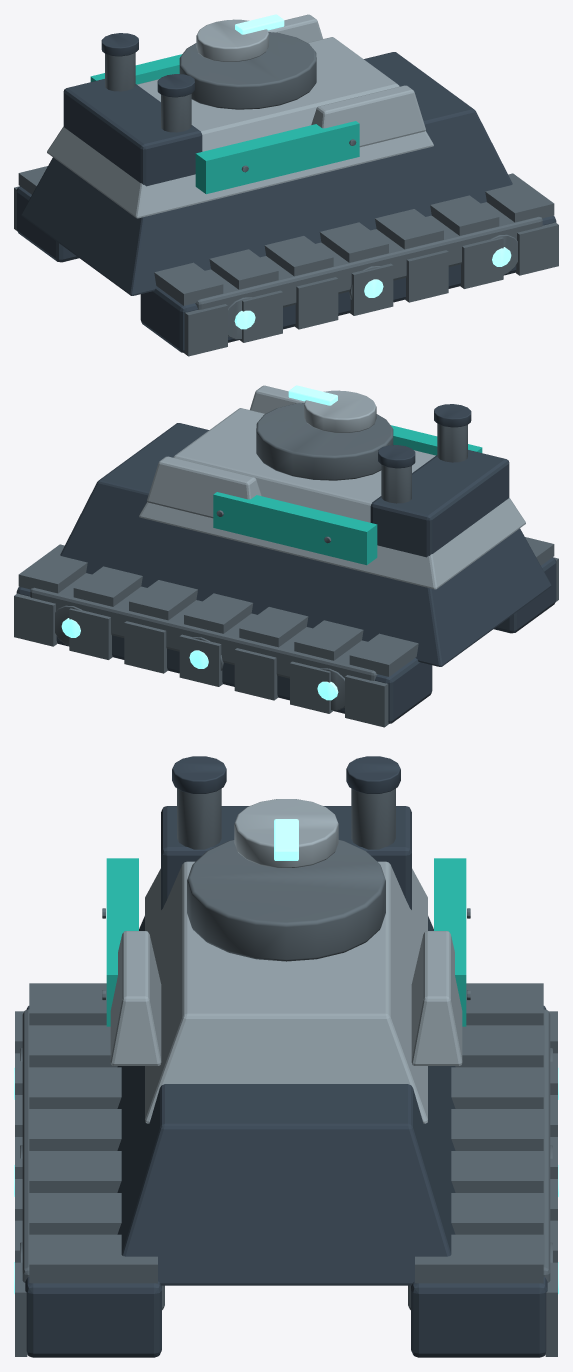
Rendered from SM_Cinderthrow_Body.fbx.
3 views of the same model, one above another, from view 1: azimuth 30°, elevation 25°; view 2: azimuth 150°, elevation 25°; view 3: azimuth 270°, elevation 25° (orthographic). The views are drawn at different scales.
Parts seen in each view (by area): view 1: SM_Cinderthrow_Body; view 2: SM_Cinderthrow_Body; view 3: SM_Cinderthrow_Body.
Part boxes in pixels (left/top/right/bottom): SM_Cinderthrow_Body: left=14, top=14, right=558, bottom=356; SM_Cinderthrow_Body: left=14, top=385, right=558, bottom=727; SM_Cinderthrow_Body: left=14, top=756, right=558, bottom=1357.
Bounding box in the file's own units: 54.97 × 41.85 × 30.79.
